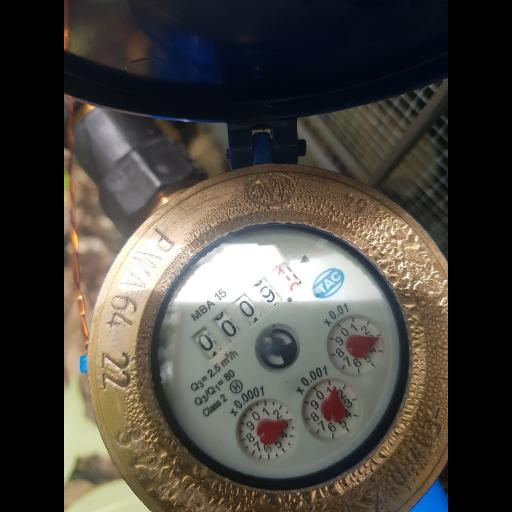0: (191, 326, 223, 361), (231, 292, 263, 326), (212, 310, 242, 343)
1: (271, 260, 303, 294)
9: (251, 276, 283, 310)
border_water_meter_number: (187, 257, 307, 364)
